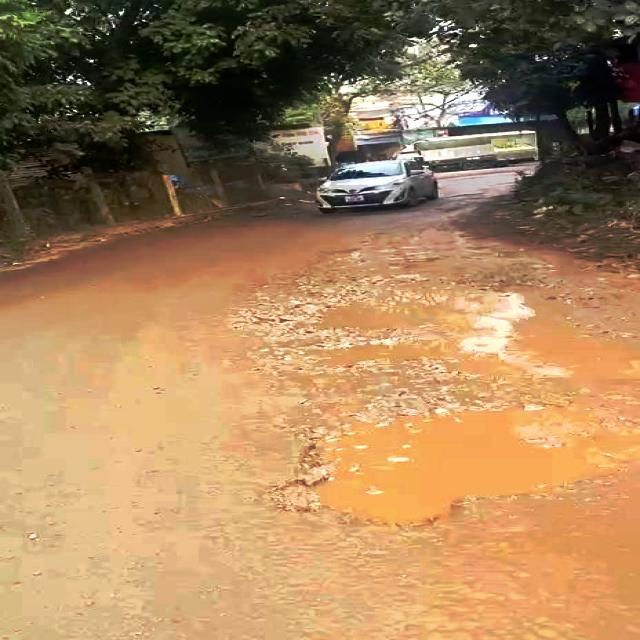pothole: (251, 394, 640, 534), (243, 274, 640, 397)
